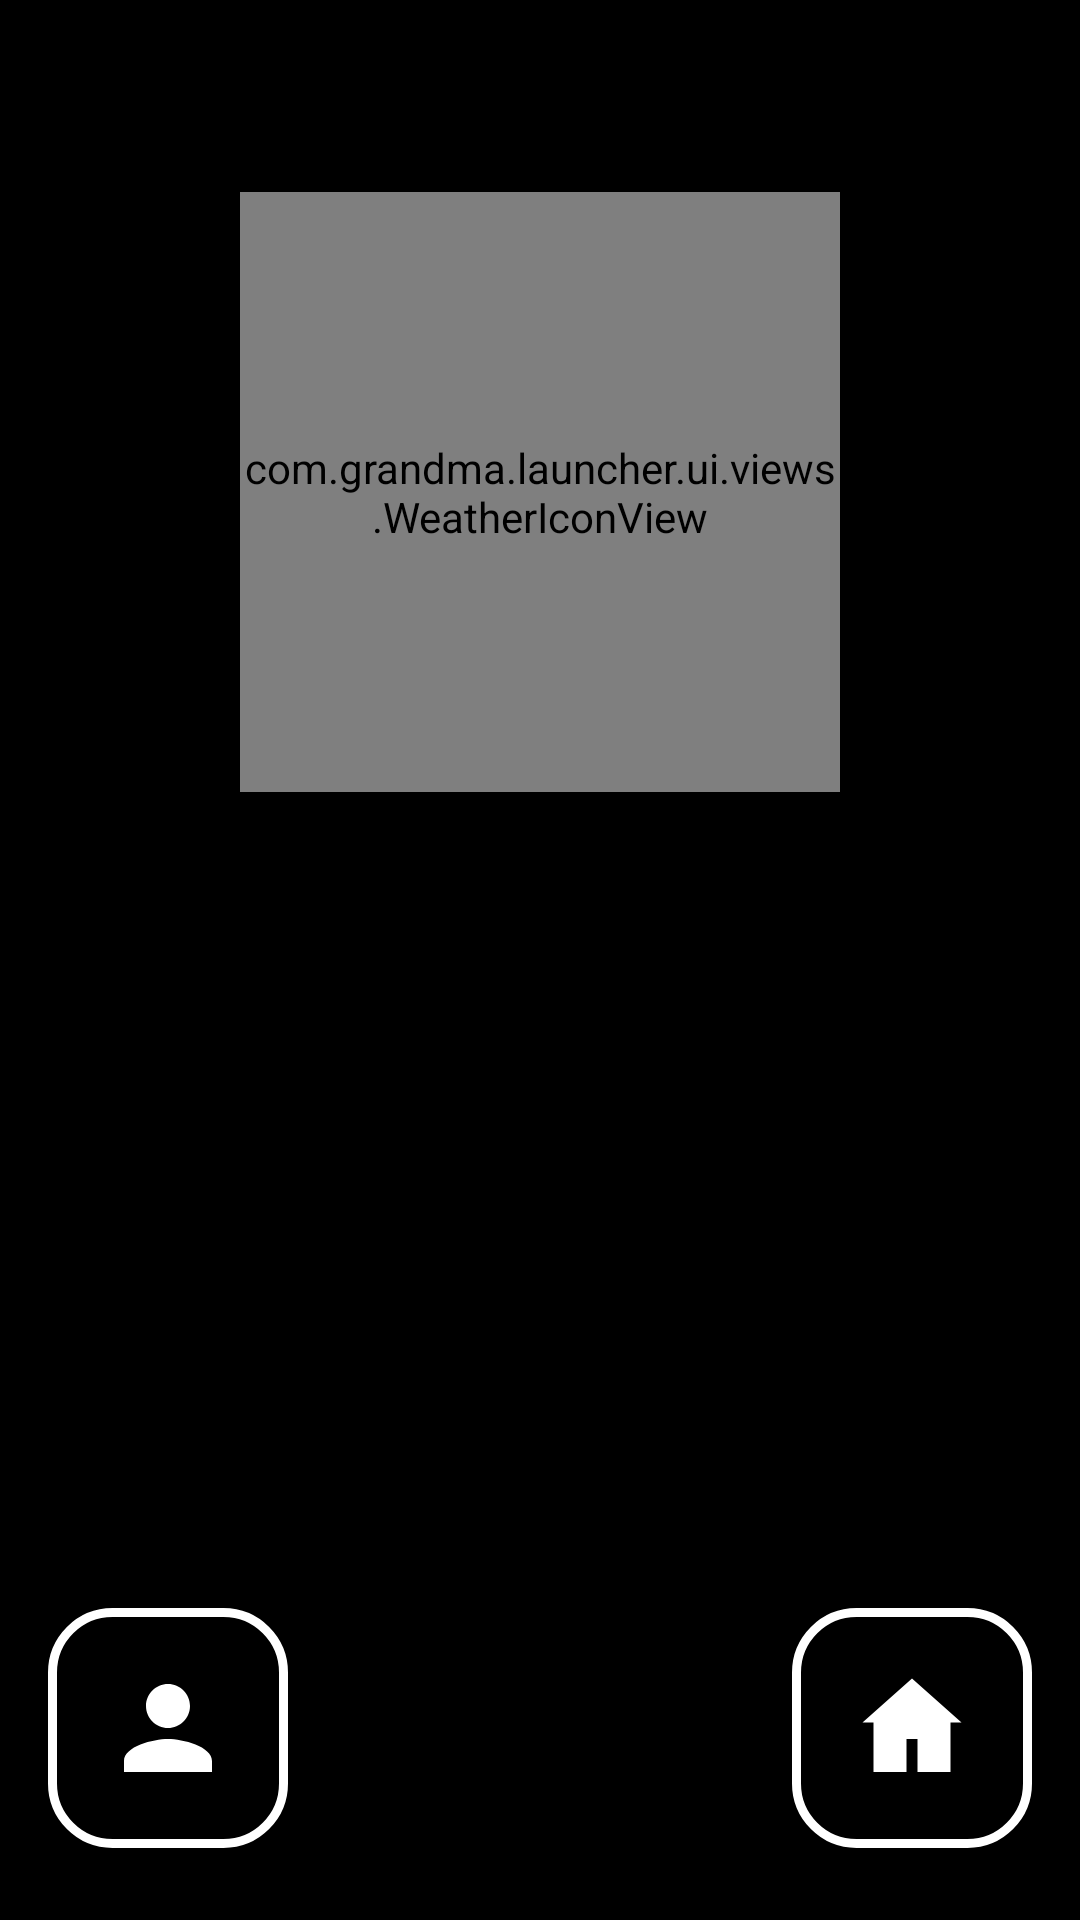

Locate icon controls on the screen. Image size 1080×1920, boxes as (x1, y1, x2, y2).
Home: (792, 1608, 1032, 1848)
